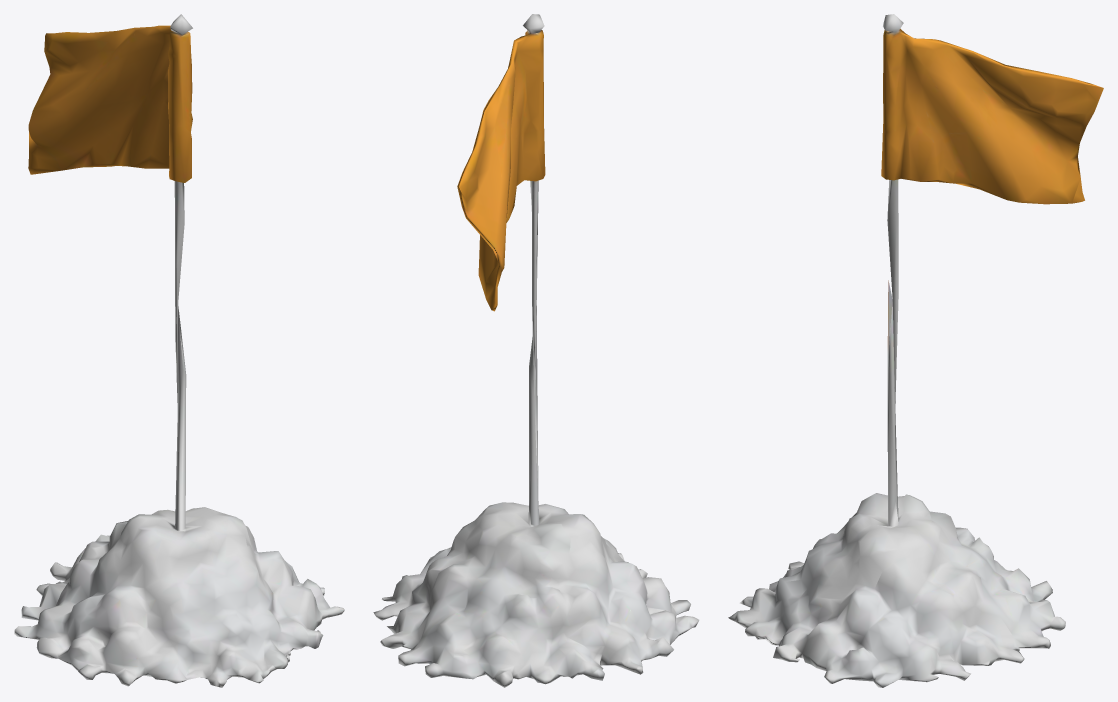
The model's file is prop_flag.glb.
3 renders of one model, left to right at view 1: azimuth 30°, elevation 25°; view 2: azimuth 150°, elevation 25°; view 3: azimuth 270°, elevation 25°, orthographic.
Parts seen in each view (by area): view 1: tripo_node_c5125fbb-325f-4181-ada7-26bfdb8e28d0; view 2: tripo_node_c5125fbb-325f-4181-ada7-26bfdb8e28d0; view 3: tripo_node_c5125fbb-325f-4181-ada7-26bfdb8e28d0.
Part boxes in pixels (bbox=[...]): tripo_node_c5125fbb-325f-4181-ada7-26bfdb8e28d0: bbox=[14, 14, 344, 687]; tripo_node_c5125fbb-325f-4181-ada7-26bfdb8e28d0: bbox=[373, 14, 699, 687]; tripo_node_c5125fbb-325f-4181-ada7-26bfdb8e28d0: bbox=[728, 14, 1103, 687].
Size of the model in its own units: 0.4801 by 1 by 0.5598.
Materials: 1 (1 with a texture image).
